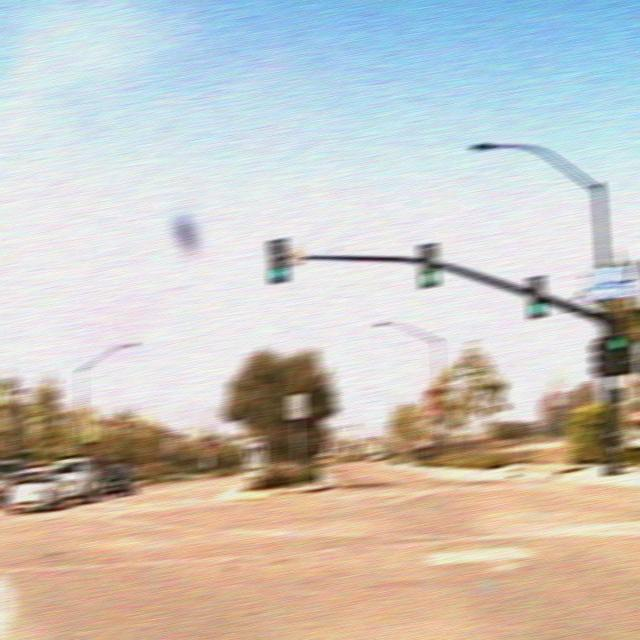speedLimit50: (286, 392, 306, 417)
